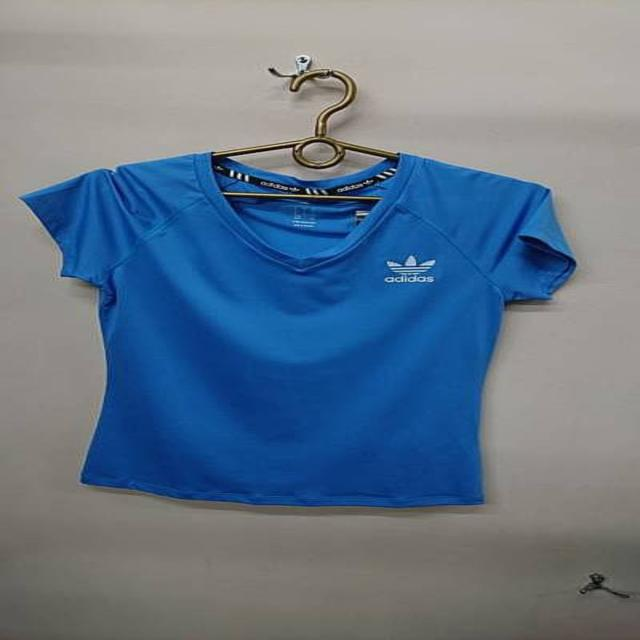T_SHIRT: (7, 135, 619, 512)
